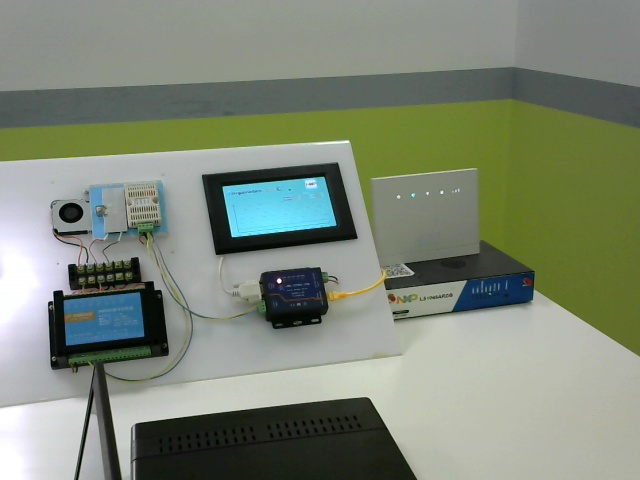fan: (49, 194, 95, 235)
heater: (97, 177, 129, 240)
modbus bridge: (257, 266, 339, 336)
relay: (44, 286, 177, 368)
termperature: (128, 182, 165, 228)
